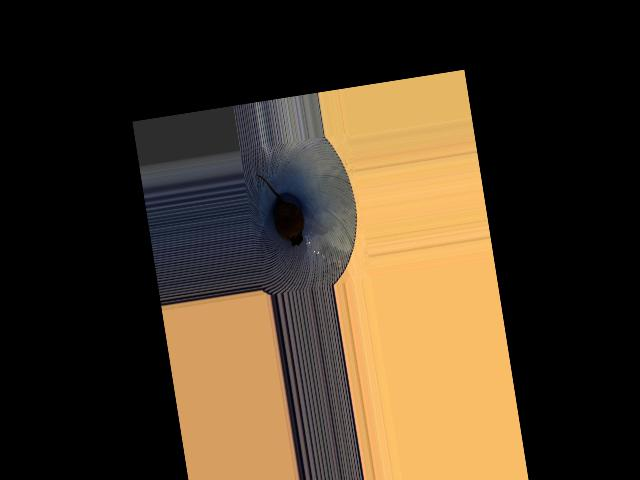beet: (256, 169, 307, 250)
